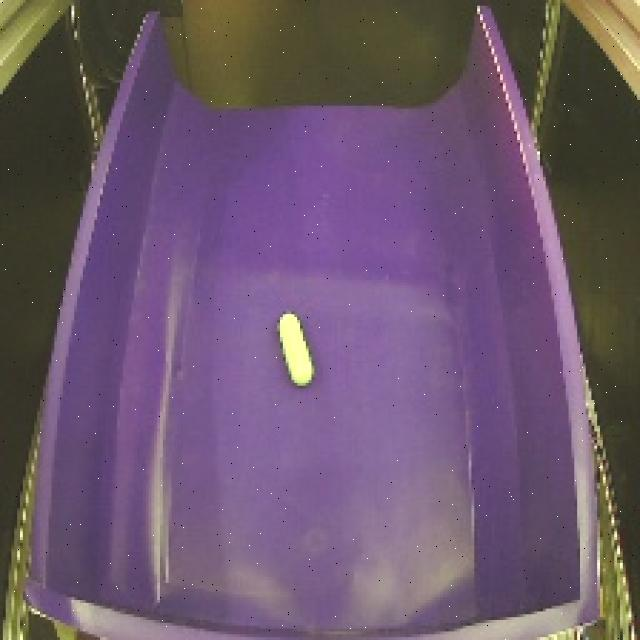small: (272, 303, 323, 397)
